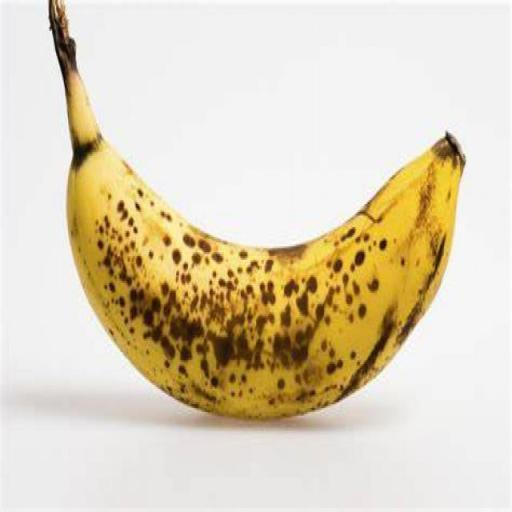fruit: (48, 0, 464, 416)
